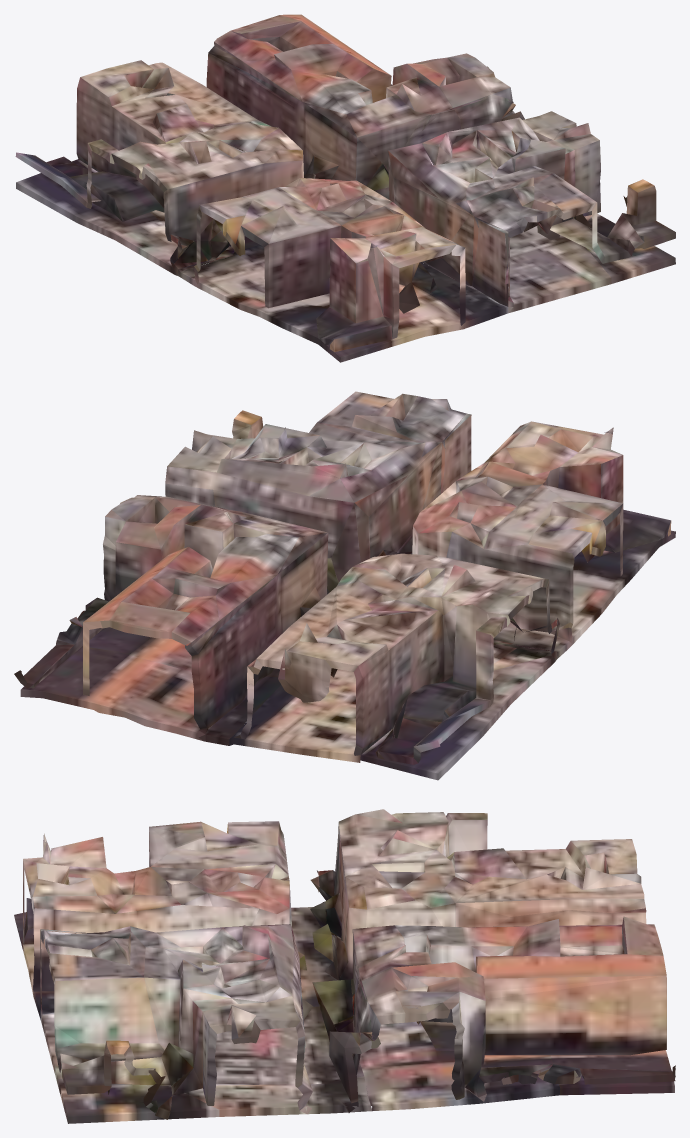
3 views of the same model, one above another, from view 1: azimuth 30°, elevation 25°; view 2: azimuth 150°, elevation 25°; view 3: azimuth 270°, elevation 25° (orthographic). The views are drawn at different scales.
Parts seen in each view (by area): view 1: Mesh_0; view 2: Mesh_0; view 3: Mesh_0.
Boxes of the visible parts, x1=… form: Mesh_0: x1=15, y1=14, x2=675, y2=362; Mesh_0: x1=14, y1=391, x2=675, y2=780; Mesh_0: x1=14, y1=809, x2=675, y2=1123.
Bounding box in the file's own units: 134 × 35.34 × 165.
1 material, 1 textured.
